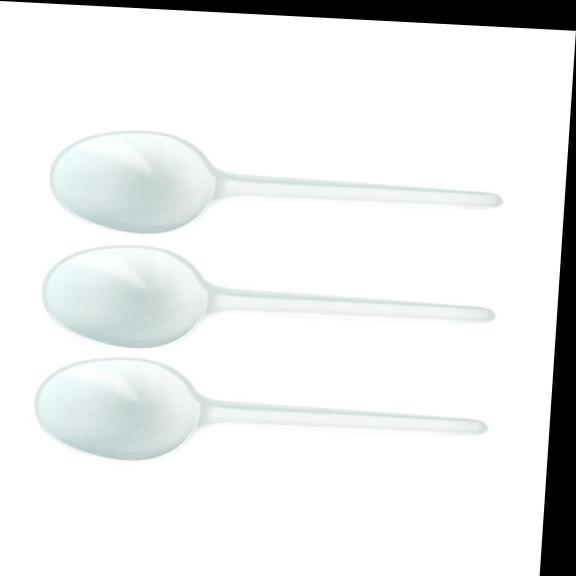Plastik: (43, 245, 494, 347), (36, 357, 486, 459), (51, 131, 501, 232)
